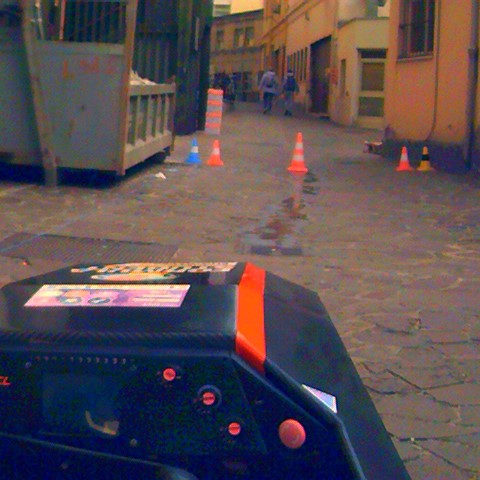cone: (185, 140, 202, 163)
